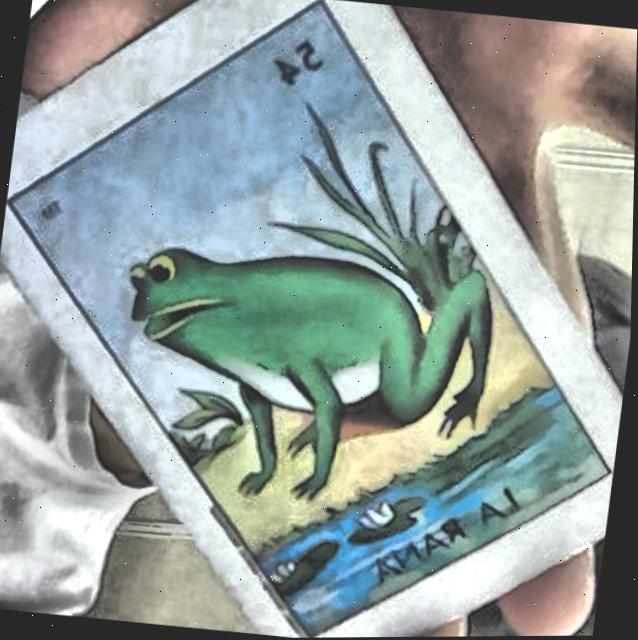La Rana: (9, 0, 611, 637)
